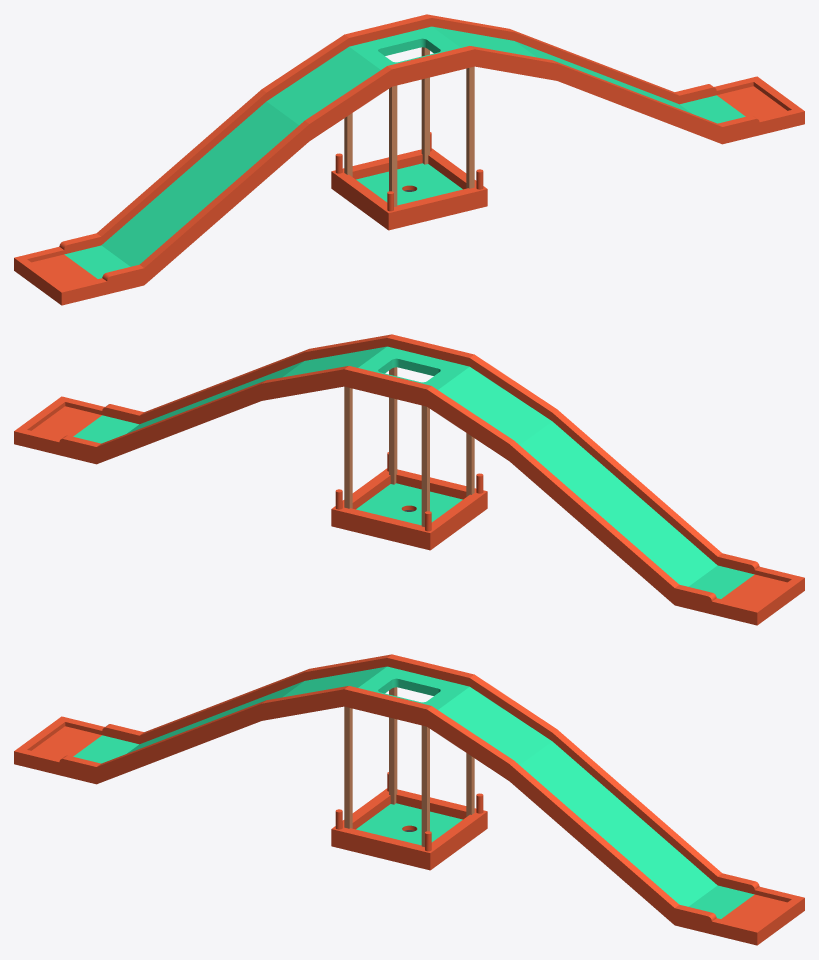
Rendered from PH_BellCurve.obj.
3 renders of one model, top to bottom at view 1: azimuth 30°, elevation 25°; view 2: azimuth 150°, elevation 25°; view 3: azimuth 330°, elevation 25°, orthographic.
Size of the model in its own units: 9 by 1.8 by 1.2.
